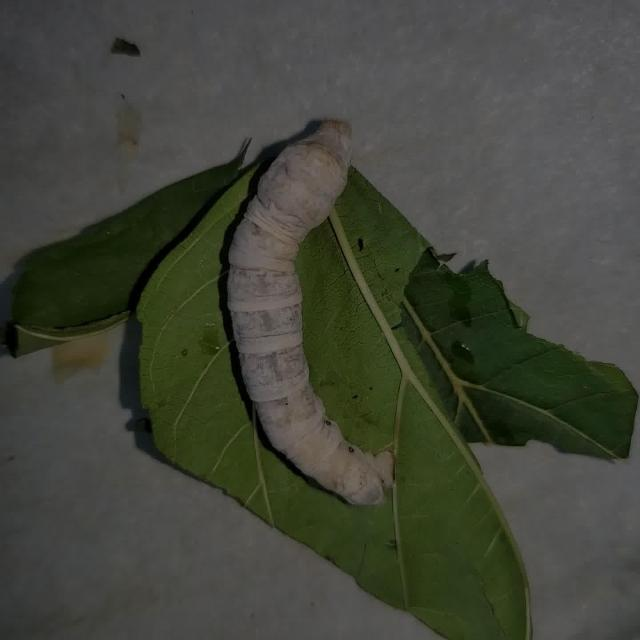Grasserie: (218, 97, 420, 516)
